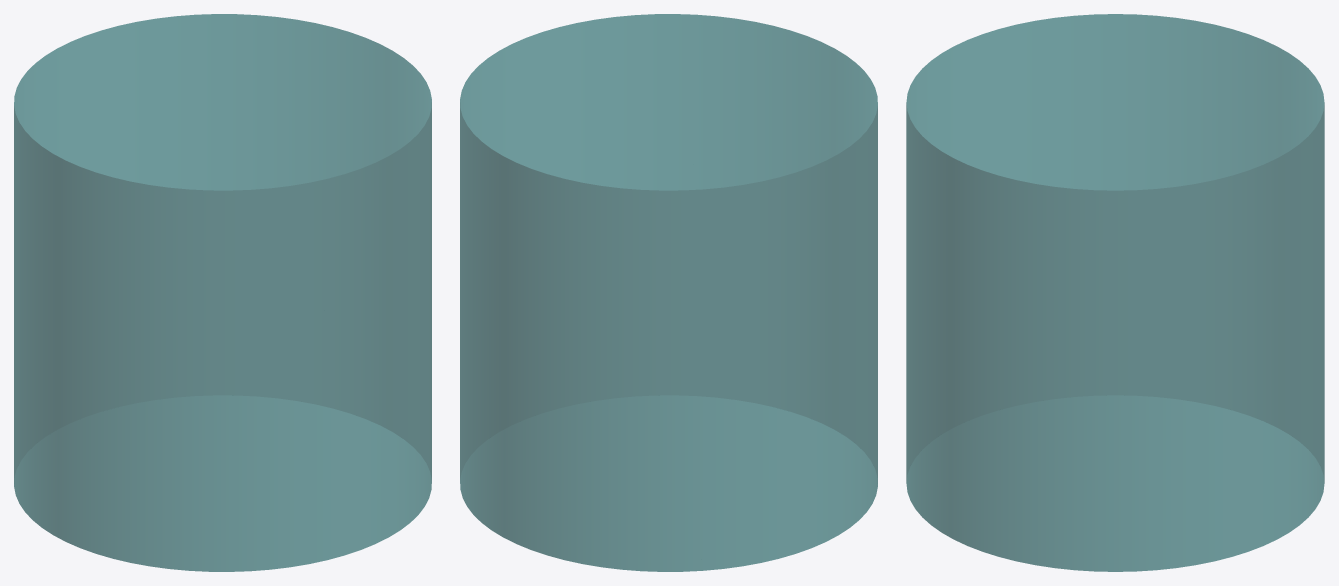
File: cylinder_transparent_artistic_reference.glb
The picture shows the model from 3 angles, left to right: view 1: azimuth 30°, elevation 25°; view 2: azimuth 150°, elevation 25°; view 3: azimuth 270°, elevation 25°; orthographic projection.
Visible parts, largest first — view 1: Cube_0; view 2: Cube_0; view 3: Cube_0.
Part boxes in pixels (<box>): Cube_0: <box>14,14,431,571</box>; Cube_0: <box>460,14,877,571</box>; Cube_0: <box>906,14,1324,571</box>.
Bounding box in the file's own units: 1.99 × 2 × 1.99.
